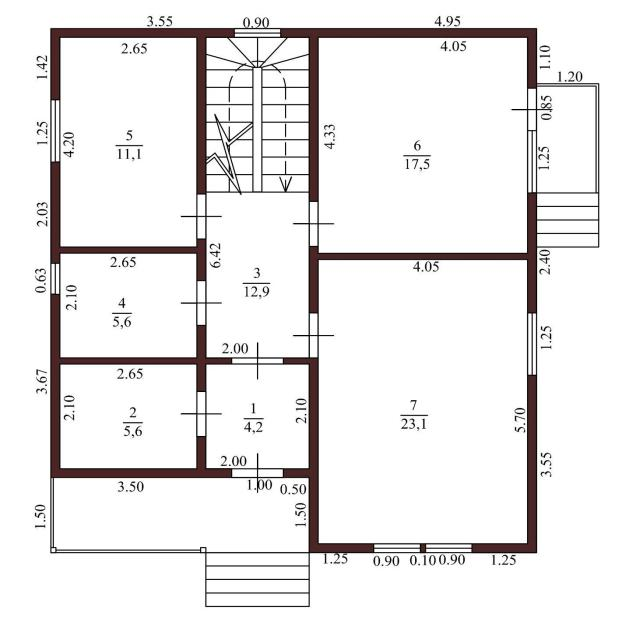Corridors: (53, 478, 309, 553), (207, 193, 309, 358), (207, 365, 308, 468)
Doors: (232, 452, 284, 495), (179, 193, 225, 239), (232, 341, 284, 381), (292, 313, 338, 358), (179, 391, 223, 437), (180, 281, 224, 327), (511, 87, 555, 131), (293, 201, 335, 247)
LBwalls: (281, 28, 538, 202), (50, 294, 232, 477), (50, 27, 234, 194), (309, 357, 374, 554), (472, 375, 538, 553), (527, 193, 537, 314), (50, 162, 60, 263), (308, 246, 319, 313), (197, 326, 207, 392), (197, 239, 207, 281), (284, 468, 309, 478), (420, 543, 426, 553)
Offices: (320, 261, 527, 542), (319, 38, 527, 253), (61, 38, 196, 246), (61, 365, 196, 468), (62, 254, 196, 357)
Stairs: (207, 38, 309, 196), (538, 87, 599, 247), (205, 552, 311, 607)
Walls: (50, 478, 207, 553), (537, 83, 599, 193), (319, 252, 527, 261), (61, 246, 197, 254), (61, 358, 197, 364), (207, 357, 232, 365), (283, 357, 309, 364)
Windows: (527, 130, 537, 193), (527, 313, 537, 376), (50, 100, 60, 163), (234, 28, 281, 38), (374, 543, 420, 553), (426, 543, 472, 553), (50, 263, 61, 295)
